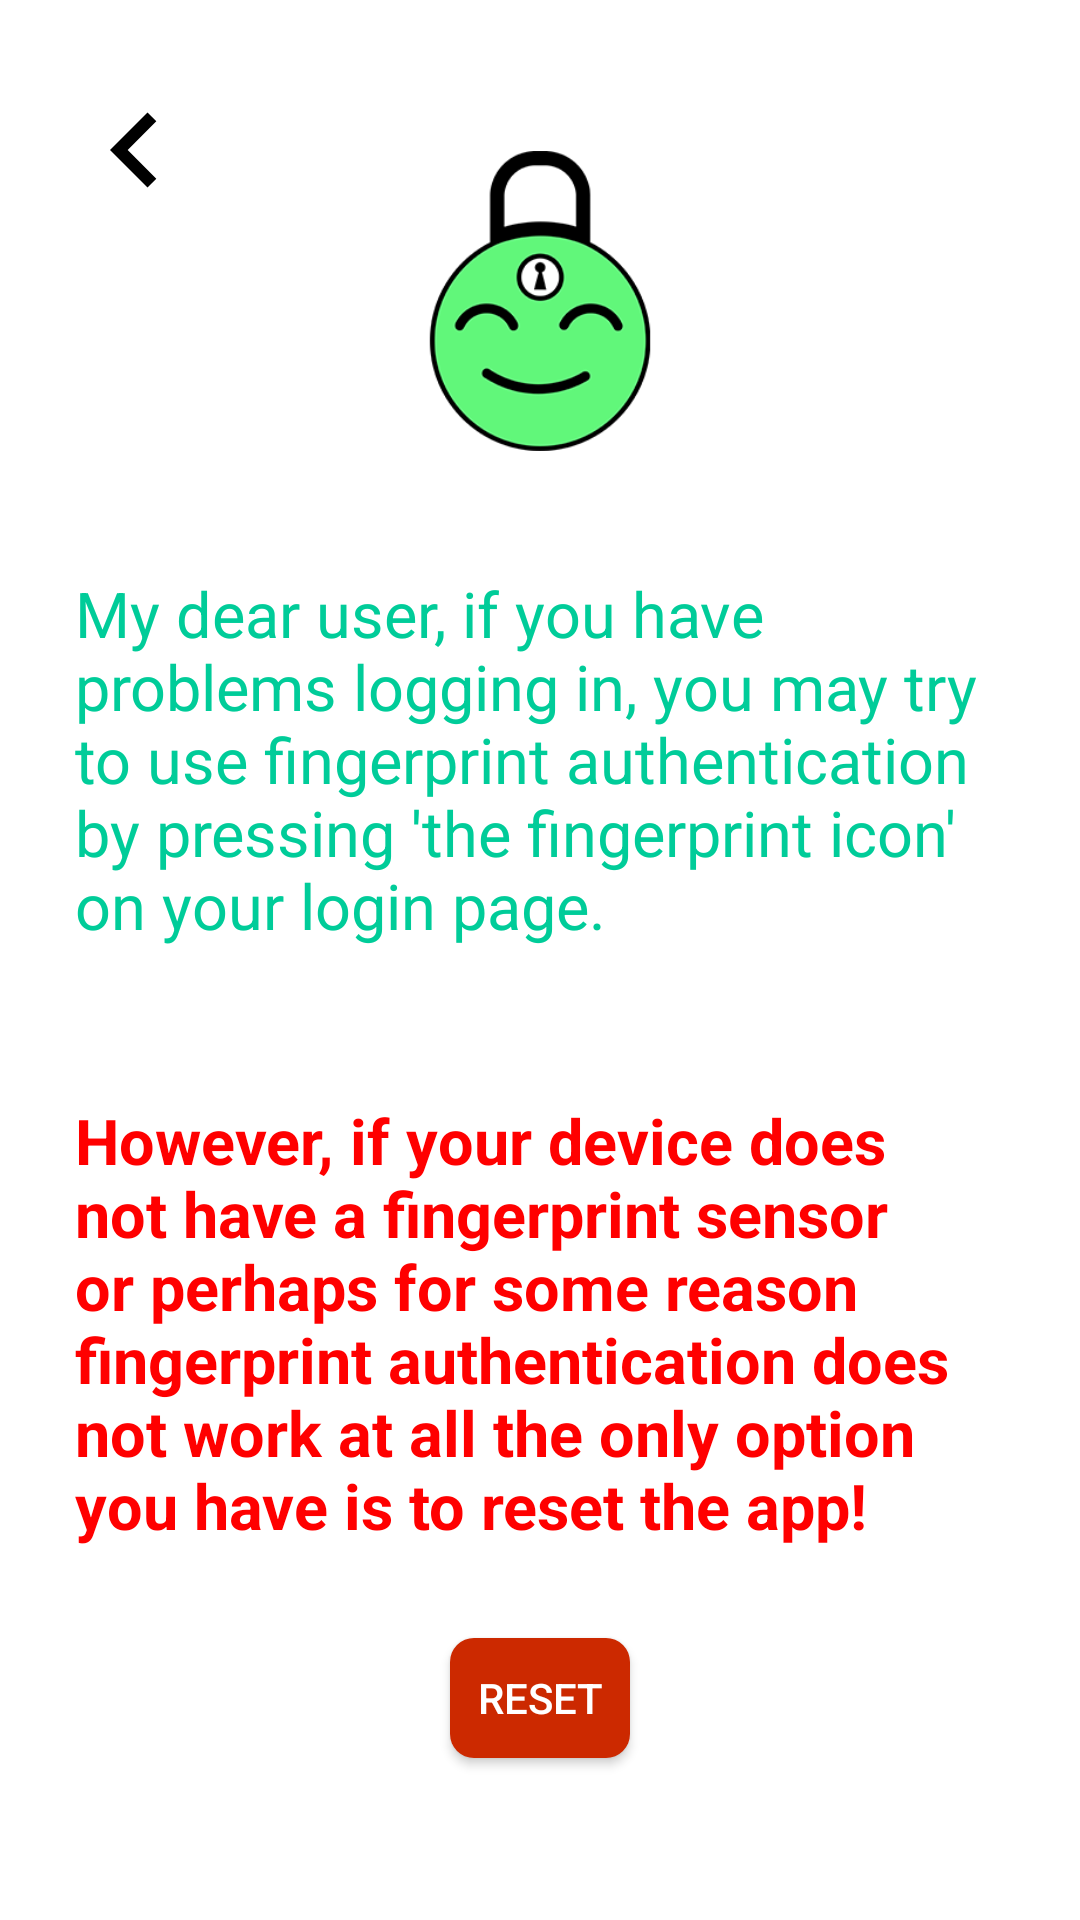

Icons on this 1080px×1920px Android screen, each with its box as (x1, y1, x2, y2):
arrow to go back to previous screen: (110, 112, 156, 188)
